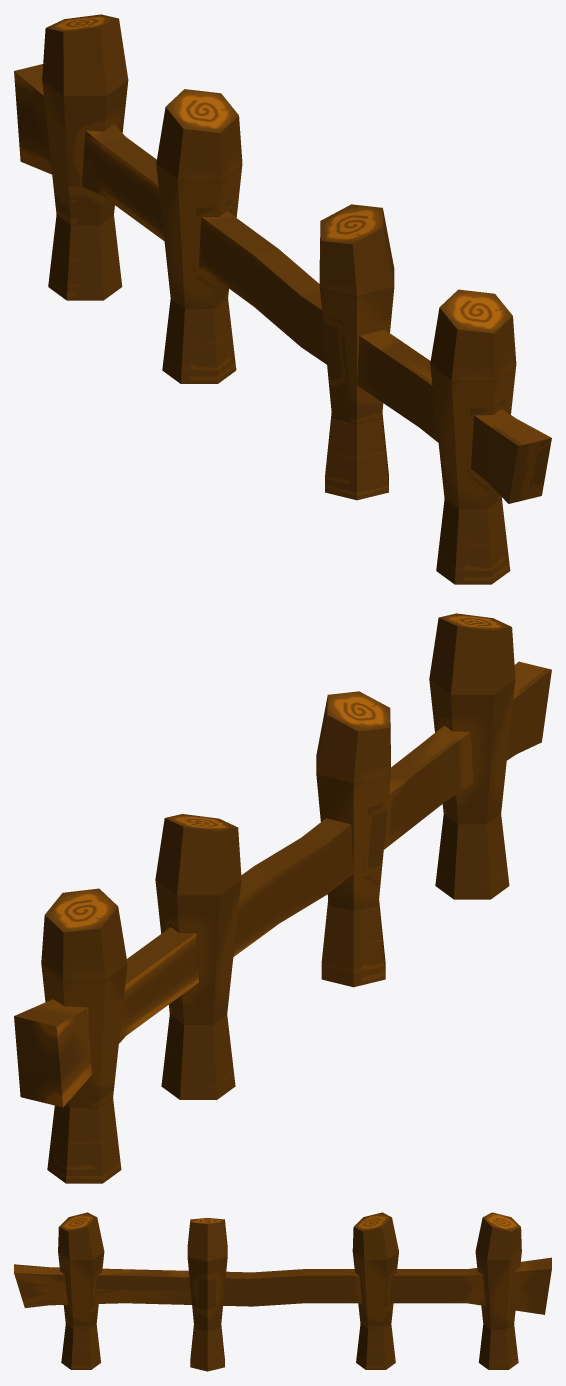
The model's file is fence.glb.
The picture shows the model from 3 angles, top to bottom: view 1: azimuth 30°, elevation 25°; view 2: azimuth 150°, elevation 25°; view 3: azimuth 270°, elevation 25°; orthographic projection. The views are drawn at different scales.
Parts seen in each view (by area): view 1: Cube_0; view 2: Cube_0; view 3: Cube_0.
Boxes of the visible parts, <box> form: Cube_0: <box>14,14,551,584</box>; Cube_0: <box>14,613,551,1183</box>; Cube_0: <box>14,1212,551,1371</box>.
Size of the model in its own units: 0.5419 by 1.88 by 6.28.
1 material, 1 textured.
